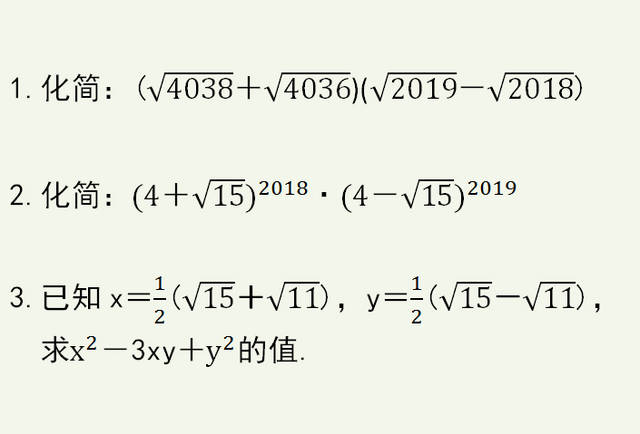division: (409, 294, 421, 304), (152, 295, 165, 302)
sqrt: (487, 69, 575, 103), (266, 70, 351, 103), (149, 69, 232, 102), (376, 69, 458, 102), (401, 176, 457, 208), (439, 280, 494, 312), (523, 279, 578, 311), (270, 279, 321, 312), (192, 177, 244, 209), (182, 280, 235, 311)
square: (221, 334, 234, 352), (86, 335, 99, 351)
